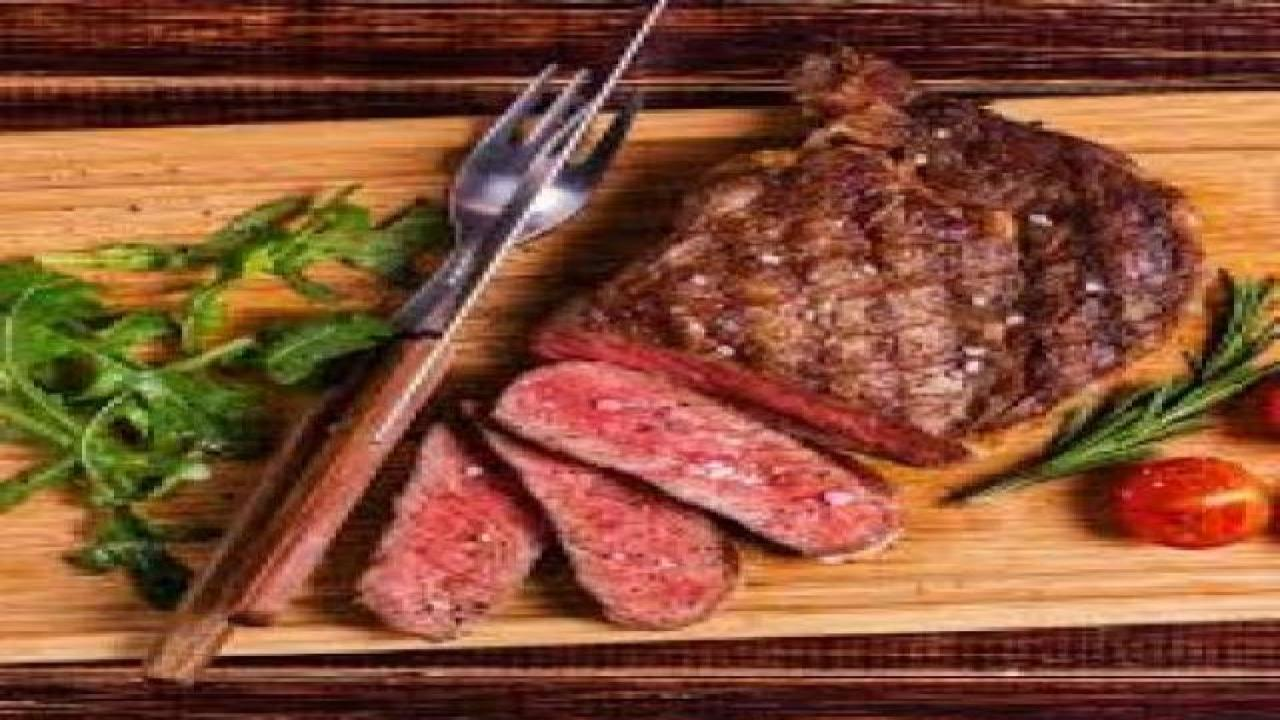done: (548, 69, 1254, 373)
raw: (333, 383, 929, 664)
